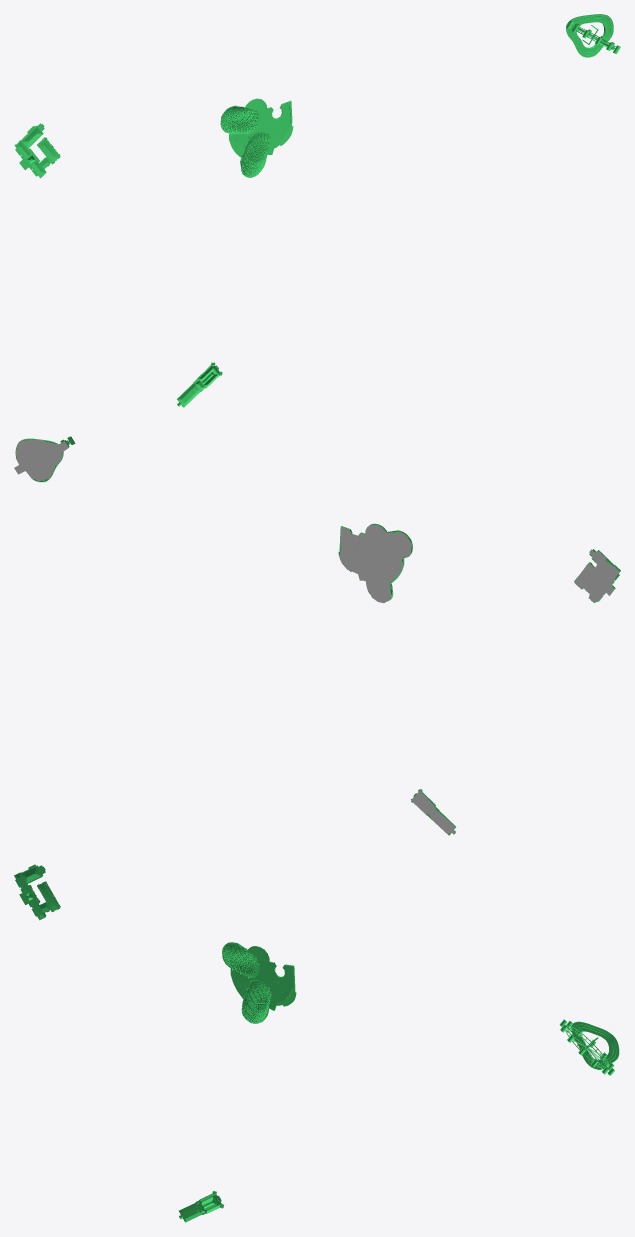
The picture shows the model from 3 angles, top to bottom: view 1: azimuth 30°, elevation 25°; view 2: azimuth 150°, elevation 25°; view 3: azimuth 330°, elevation 25°; orthographic projection.
Size of the model in its own units: 5113 by 2593 by 171.
